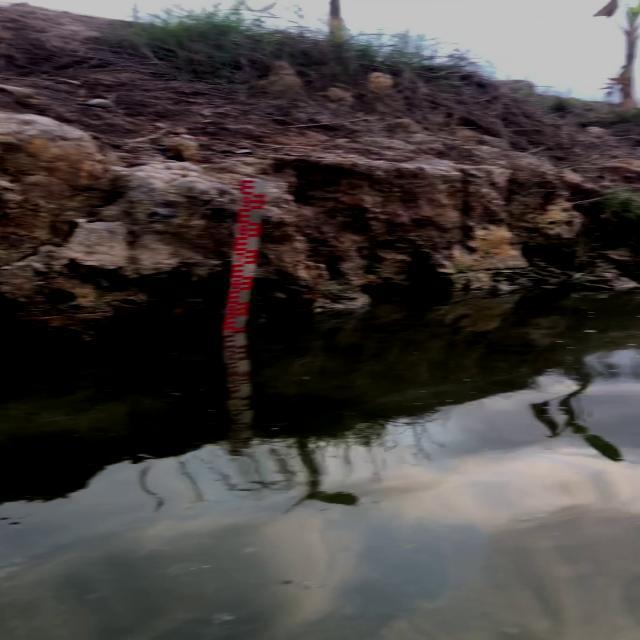ruler: (215, 170, 277, 342)
